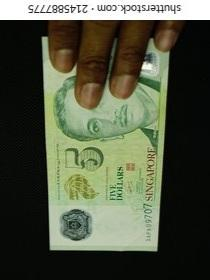5SingaporeDollar: (47, 49, 164, 250)
